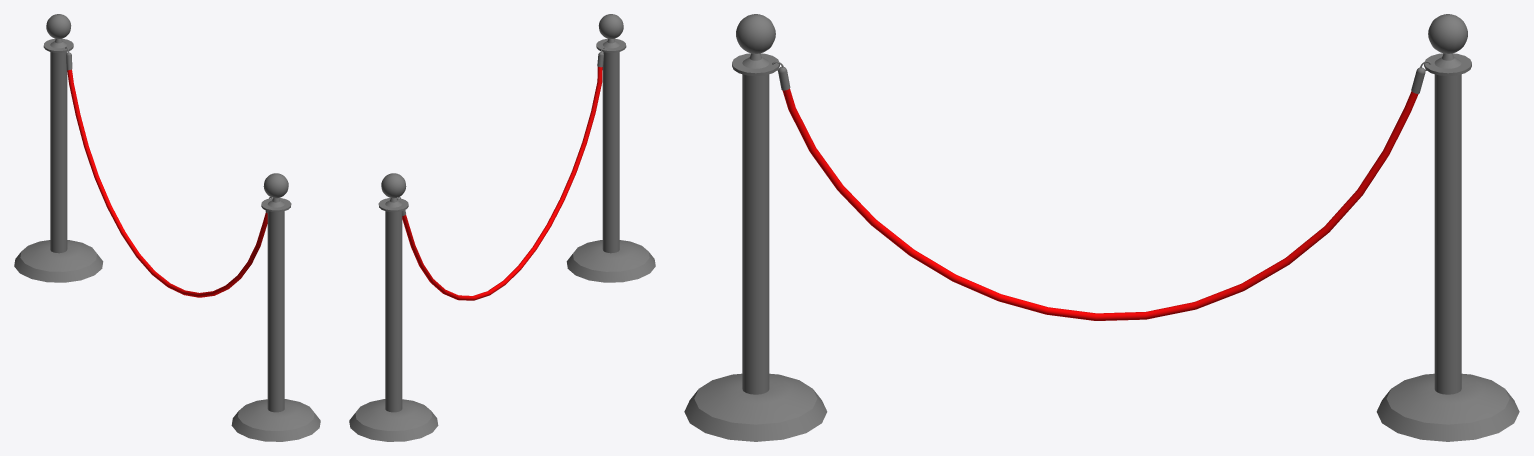
File: VelvetRopes.fbx
3 renders of one model, left to right at view 1: azimuth 30°, elevation 25°; view 2: azimuth 150°, elevation 25°; view 3: azimuth 270°, elevation 25°, orthographic. The views are drawn at different scales.
Parts seen in each view (by area): view 1: VelvetRopes; view 2: VelvetRopes; view 3: VelvetRopes.
Part boxes in pixels (left/top/right/bottom): VelvetRopes: left=14, top=14, right=320, bottom=441; VelvetRopes: left=349, top=14, right=655, bottom=441; VelvetRopes: left=684, top=14, right=1519, bottom=441.
Bounding box in the file's own units: 2.39 × 7.31 × 13.98.
